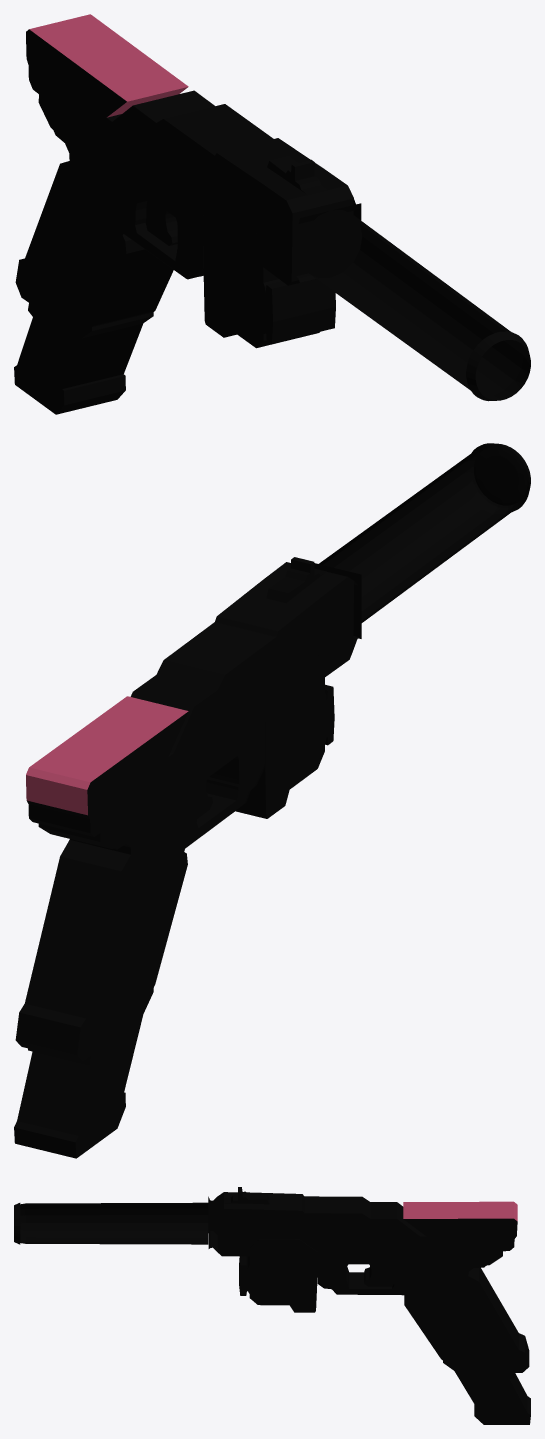
The model's file is gun.glb.
The picture shows the model from 3 angles, top to bottom: view 1: azimuth 30°, elevation 25°; view 2: azimuth 150°, elevation 25°; view 3: azimuth 270°, elevation 25°; orthographic projection. The views are drawn at different scales.
Visible parts, largest first — view 1: Base, Slider; view 2: Base, Slider; view 3: Base, Slider.
Boxes of the visible parts, x1,y1,x2,y2 form: Base: (14, 29, 530, 414); Slider: (29, 14, 188, 117); Base: (14, 443, 530, 1158); Slider: (26, 696, 188, 815); Base: (14, 1187, 530, 1424); Slider: (403, 1201, 517, 1221).
Bounding box in the file's own units: 0.3307 × 1.99 × 4.11.
